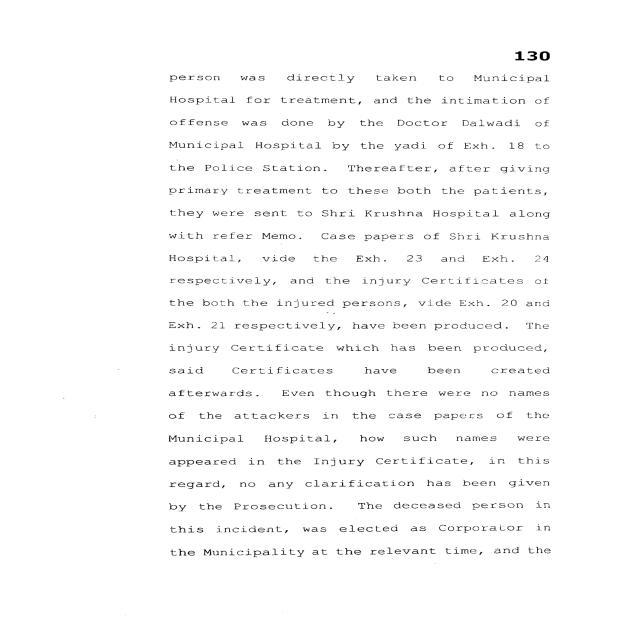page-number: (426, 4, 634, 68)
